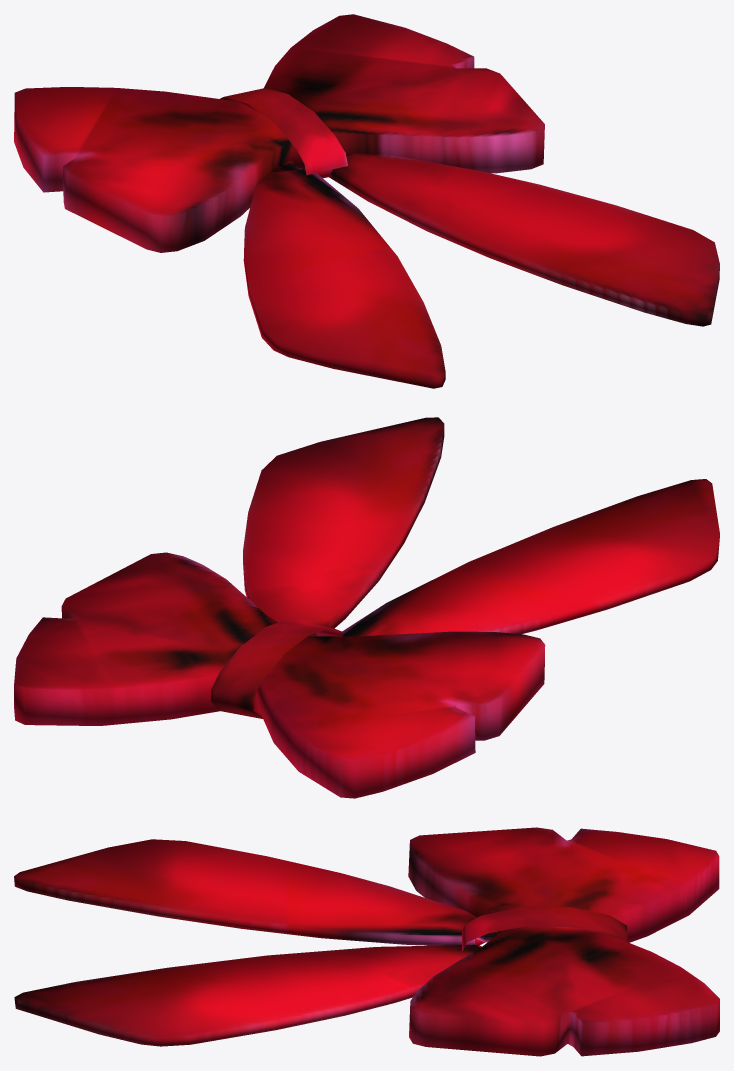
Rendered from WorldItem_HairBow.fbx.
3 renders of one model, top to bottom at view 1: azimuth 30°, elevation 25°; view 2: azimuth 150°, elevation 25°; view 3: azimuth 270°, elevation 25°, orthographic. The views are drawn at different scales.
Parts seen in each view (by area): view 1: Hairbow; view 2: Hairbow; view 3: Hairbow.
Boxes of the visible parts, x1,y1,x2,y2 form: Hairbow: (14, 14, 719, 388); Hairbow: (14, 417, 719, 798); Hairbow: (14, 827, 719, 1056).
Bounding box in the file's own units: 0.0765 × 0.00964 × 0.1182.
